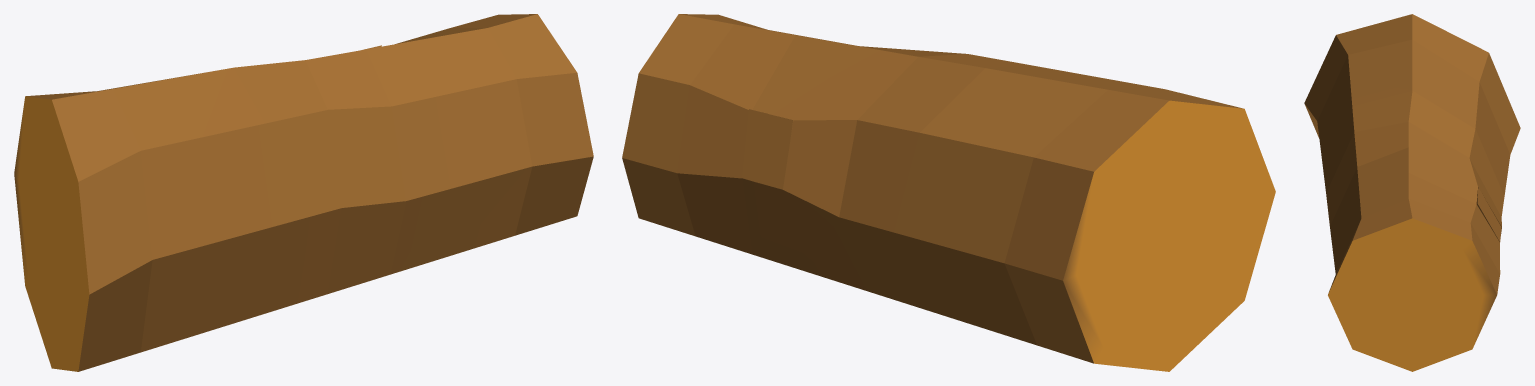
The model's file is Log.fbx.
3 renders of one model, left to right at view 1: azimuth 30°, elevation 25°; view 2: azimuth 150°, elevation 25°; view 3: azimuth 270°, elevation 25°, orthographic. The views are drawn at different scales.
Parts seen in each view (by area): view 1: Cylinder; view 2: Cylinder; view 3: Cylinder.
Boxes of the visible parts, x1=… form: Cylinder: x1=14, y1=14, x2=593, y2=371; Cylinder: x1=622, y1=14, x2=1275, y2=371; Cylinder: x1=1304, y1=14, x2=1520, y2=371.
Size of the model in its own units: 382 by 182 by 189.
